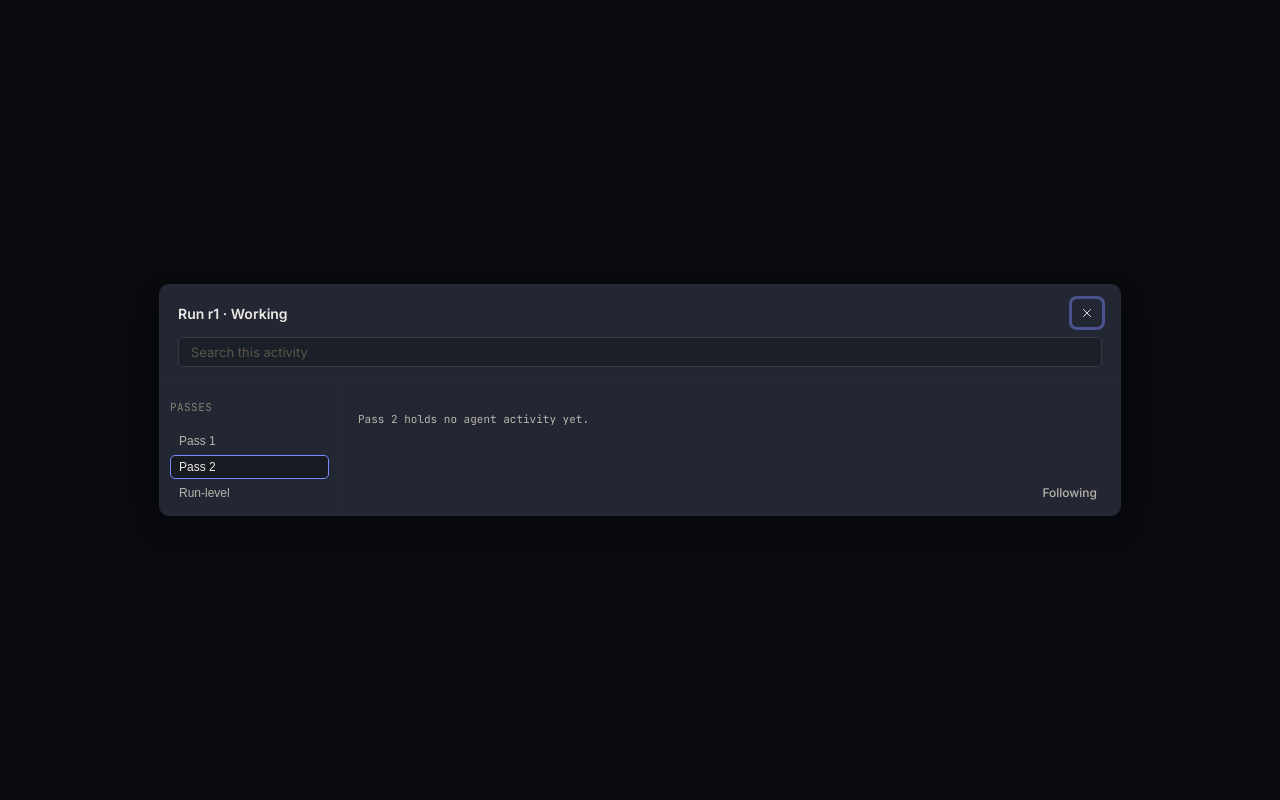
it: the graduation log window: search › GLW-FR-IMKM, GLW-FR-KBZE: a search names the scope and states the whole scope's count
Type "escalate" into the search field with test id "glw-search" at [640, 352], box 178,337 -> 1102,367
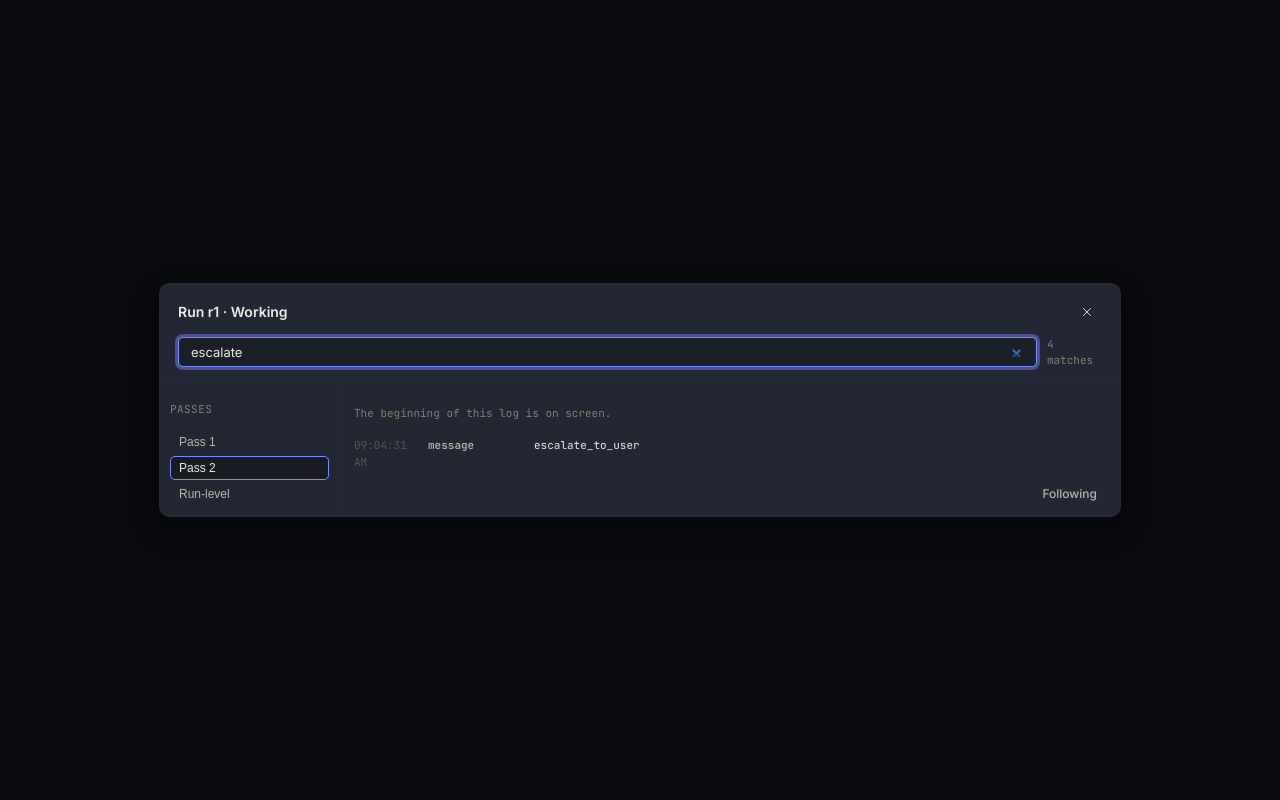
Check: the message with test id "glw-match-count" reads "4 matches", box 1047,337 -> 1093,367
Check: the number of elements with test id "glw-row" is 1, box 354,438 -> 640,469
